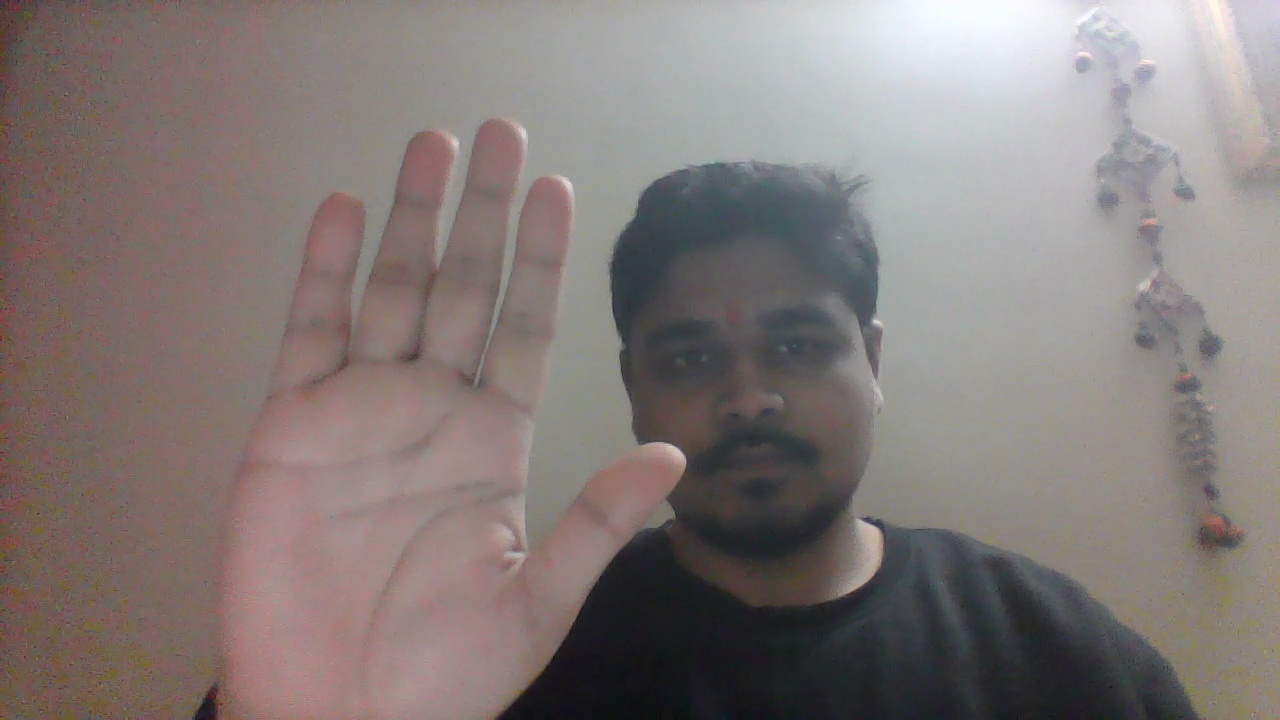Hello: (211, 111, 687, 720)
